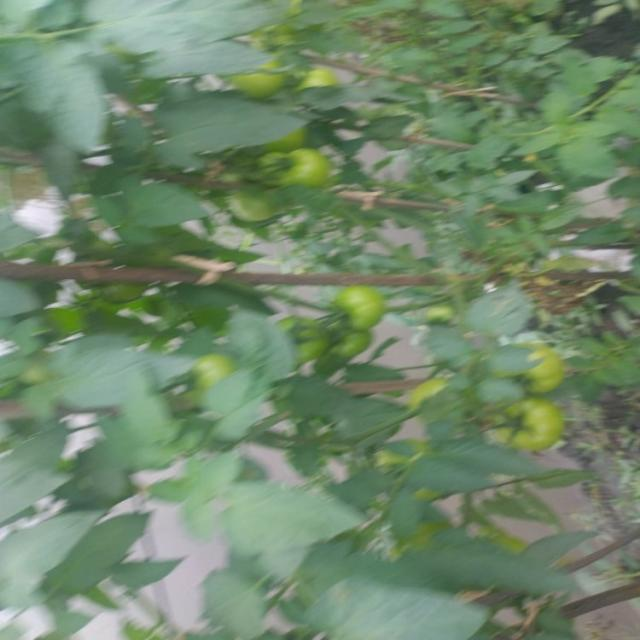tomato: (484, 405, 571, 461), (329, 284, 392, 332), (504, 340, 562, 392), (280, 147, 332, 192), (278, 316, 322, 366), (187, 350, 220, 398)
